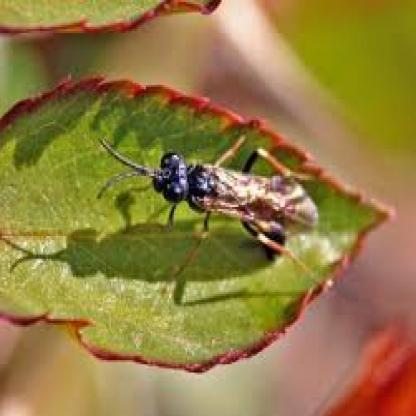sawfly: (96, 114, 330, 293)
